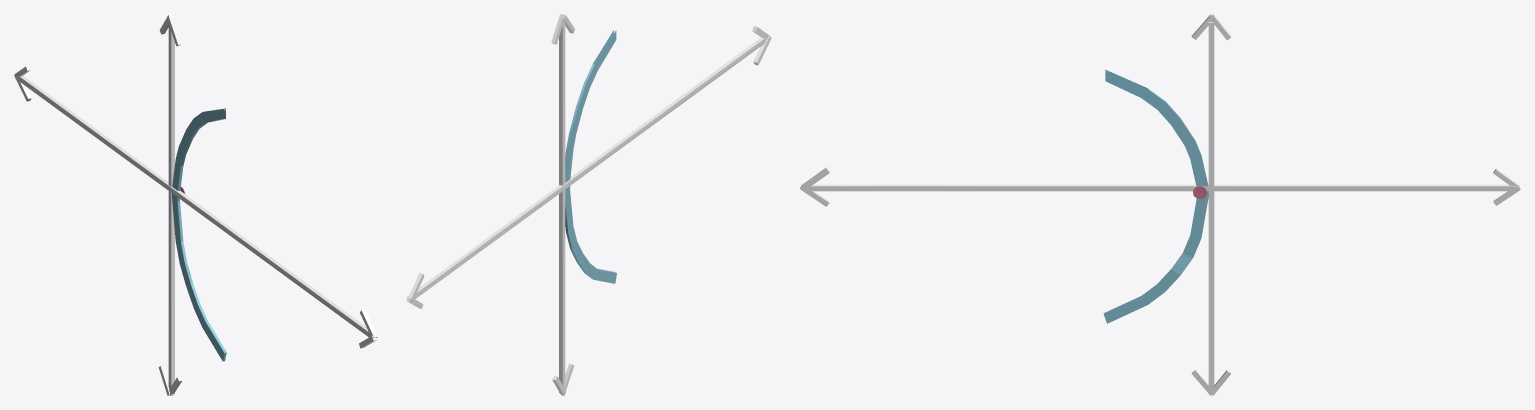
Rendered from sign_convention.fbx.
The picture shows the model from 3 angles, left to right: view 1: azimuth 30°, elevation 25°; view 2: azimuth 150°, elevation 25°; view 3: azimuth 270°, elevation 25°; orthographic projection.
Parts seen in each view (by area): view 1: sign_convention; view 2: sign_convention; view 3: sign_convention.
Part boxes in pixels (x1,y1,x2,y2): sign_convention: (14, 14, 377, 395); sign_convention: (406, 14, 771, 395); sign_convention: (800, 14, 1520, 395).
Bounding box in the file's own units: 1.34 × 58 × 99.48.
Materials: 2 (2 with a texture image).
